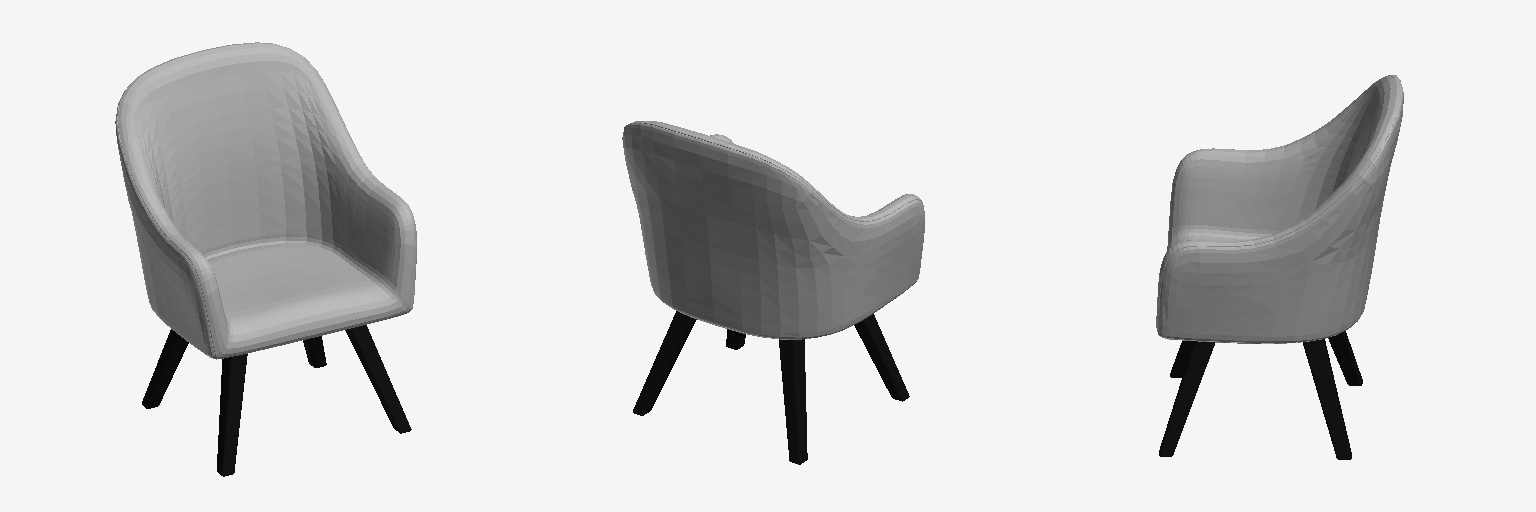
The model's file is chair_1.obj.
3 views of the same model, side by side, from view 1: azimuth 30°, elevation 25°; view 2: azimuth 150°, elevation 25°; view 3: azimuth 270°, elevation 25° (orthographic).
Parts seen in each view (by area): view 1: seat_mesh_n3d, leg_004_mesh_n3d, leg_003_mesh_n3d, leg_002_mesh_n3d, leg_001_mesh_n3d; view 2: seat_mesh_n3d, leg_002_mesh_n3d, leg_001_mesh_n3d, leg_004_mesh_n3d; view 3: seat_mesh_n3d, leg_001_mesh_n3d, leg_003_mesh_n3d, leg_002_mesh_n3d.
Part boxes in pixels (left/top/right/bottom): seat_mesh_n3d: left=115, top=42, right=416, bottom=359; leg_004_mesh_n3d: left=217, top=354, right=247, bottom=476; leg_003_mesh_n3d: left=345, top=325, right=411, bottom=433; leg_002_mesh_n3d: left=142, top=329, right=188, bottom=408; leg_001_mesh_n3d: left=303, top=336, right=326, bottom=367; seat_mesh_n3d: left=622, top=121, right=924, bottom=339; leg_002_mesh_n3d: left=779, top=339, right=807, bottom=464; leg_001_mesh_n3d: left=633, top=311, right=696, bottom=415; leg_004_mesh_n3d: left=854, top=314, right=909, bottom=401; seat_mesh_n3d: left=1156, top=75, right=1403, bottom=343; leg_001_mesh_n3d: left=1303, top=339, right=1351, bottom=459; leg_003_mesh_n3d: left=1159, top=341, right=1214, bottom=456; leg_002_mesh_n3d: left=1328, top=331, right=1362, bottom=385.
Size of the model in its own units: 17.17 by 24 by 16.7.